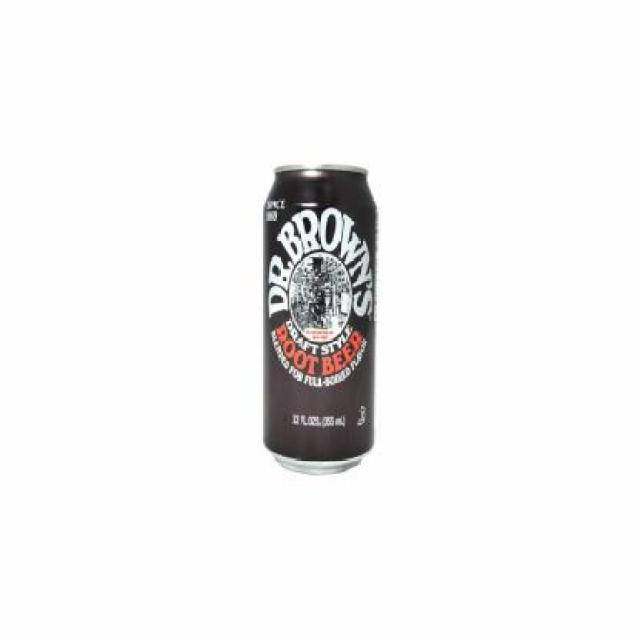non-organic waste: (253, 143, 384, 491)
